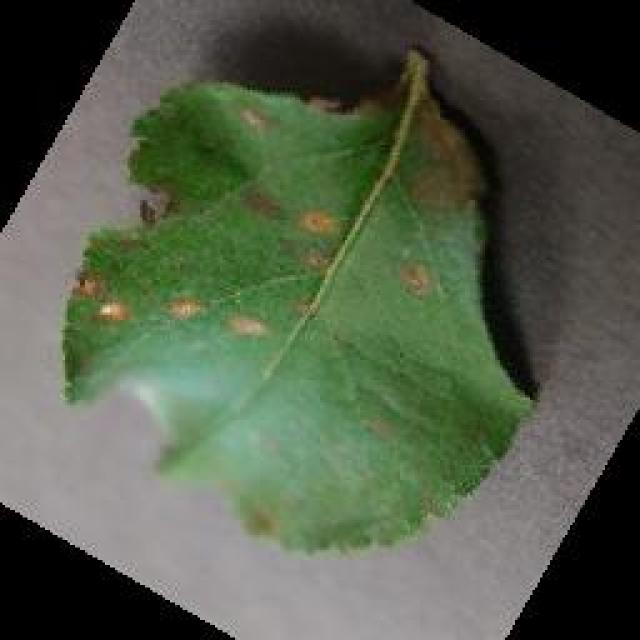apple cedar apple rust: (58, 45, 540, 557)
